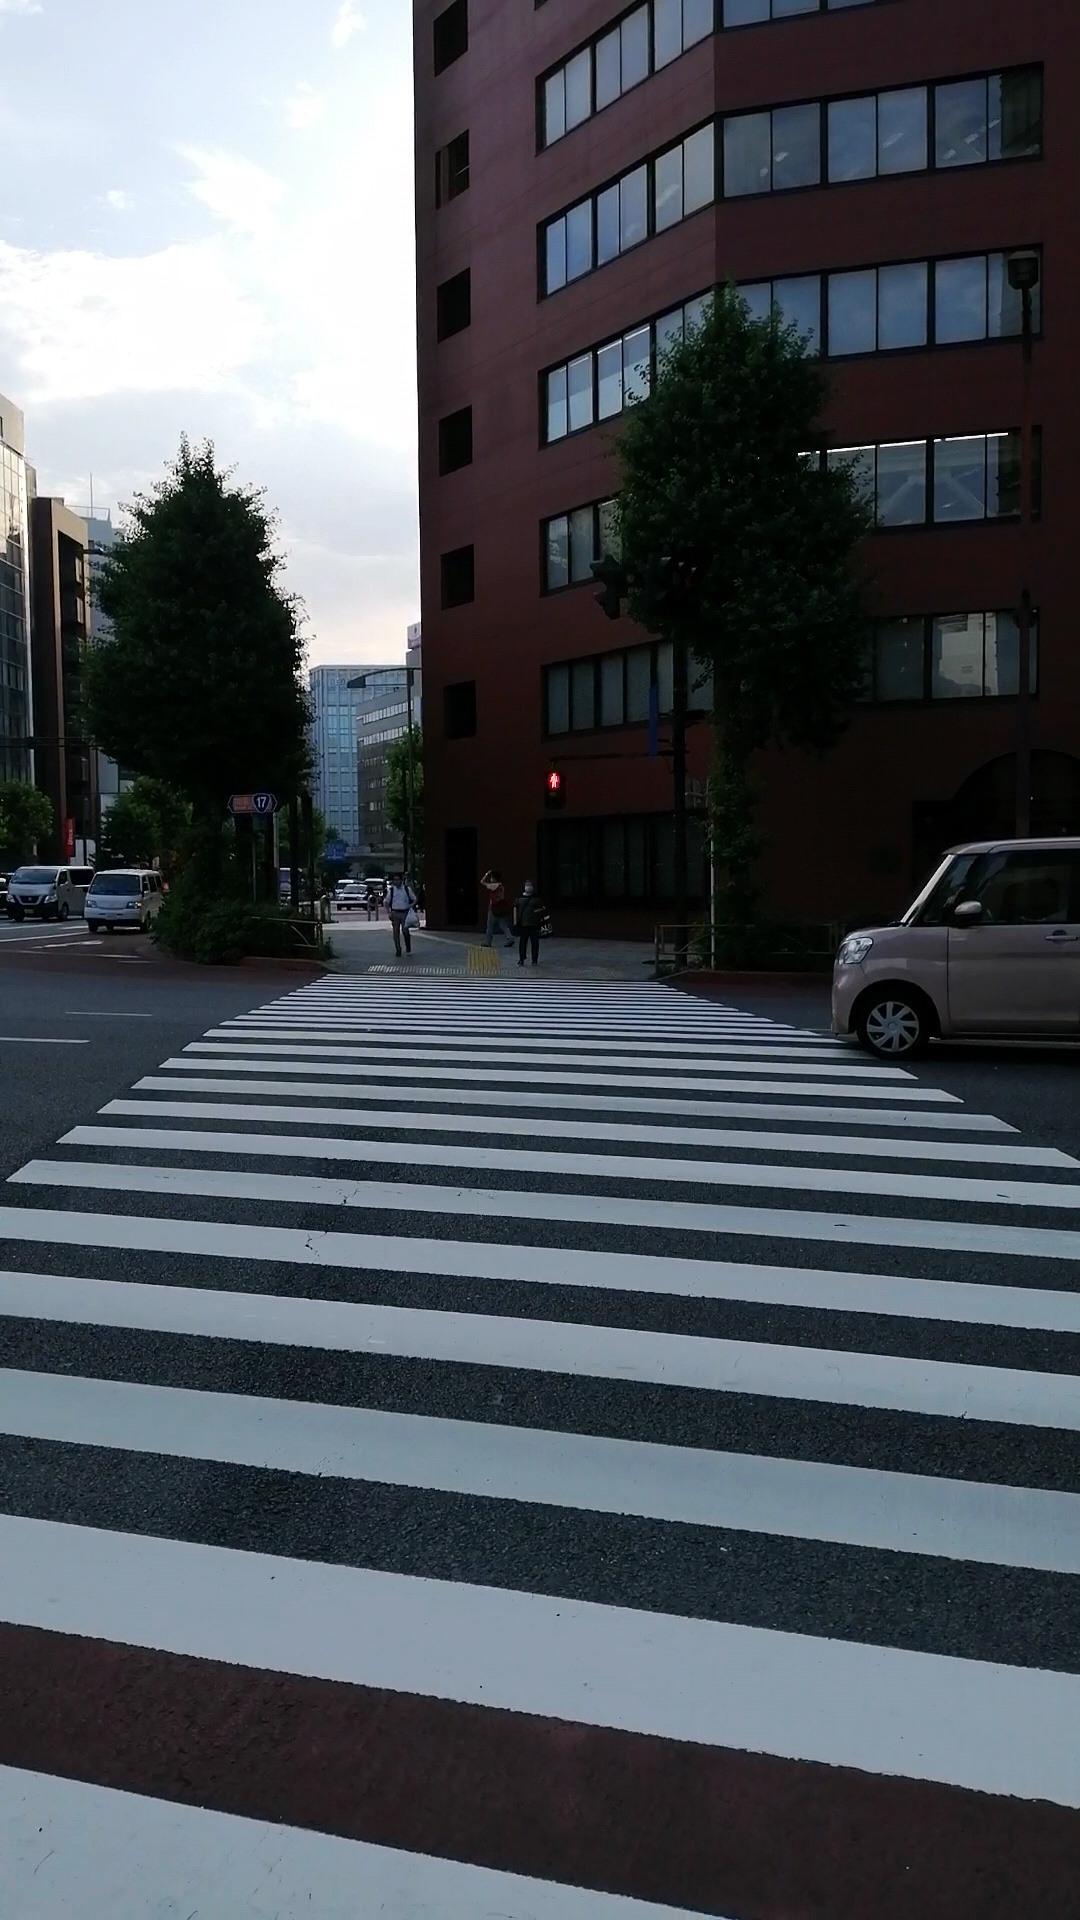red: (541, 765, 566, 811)
